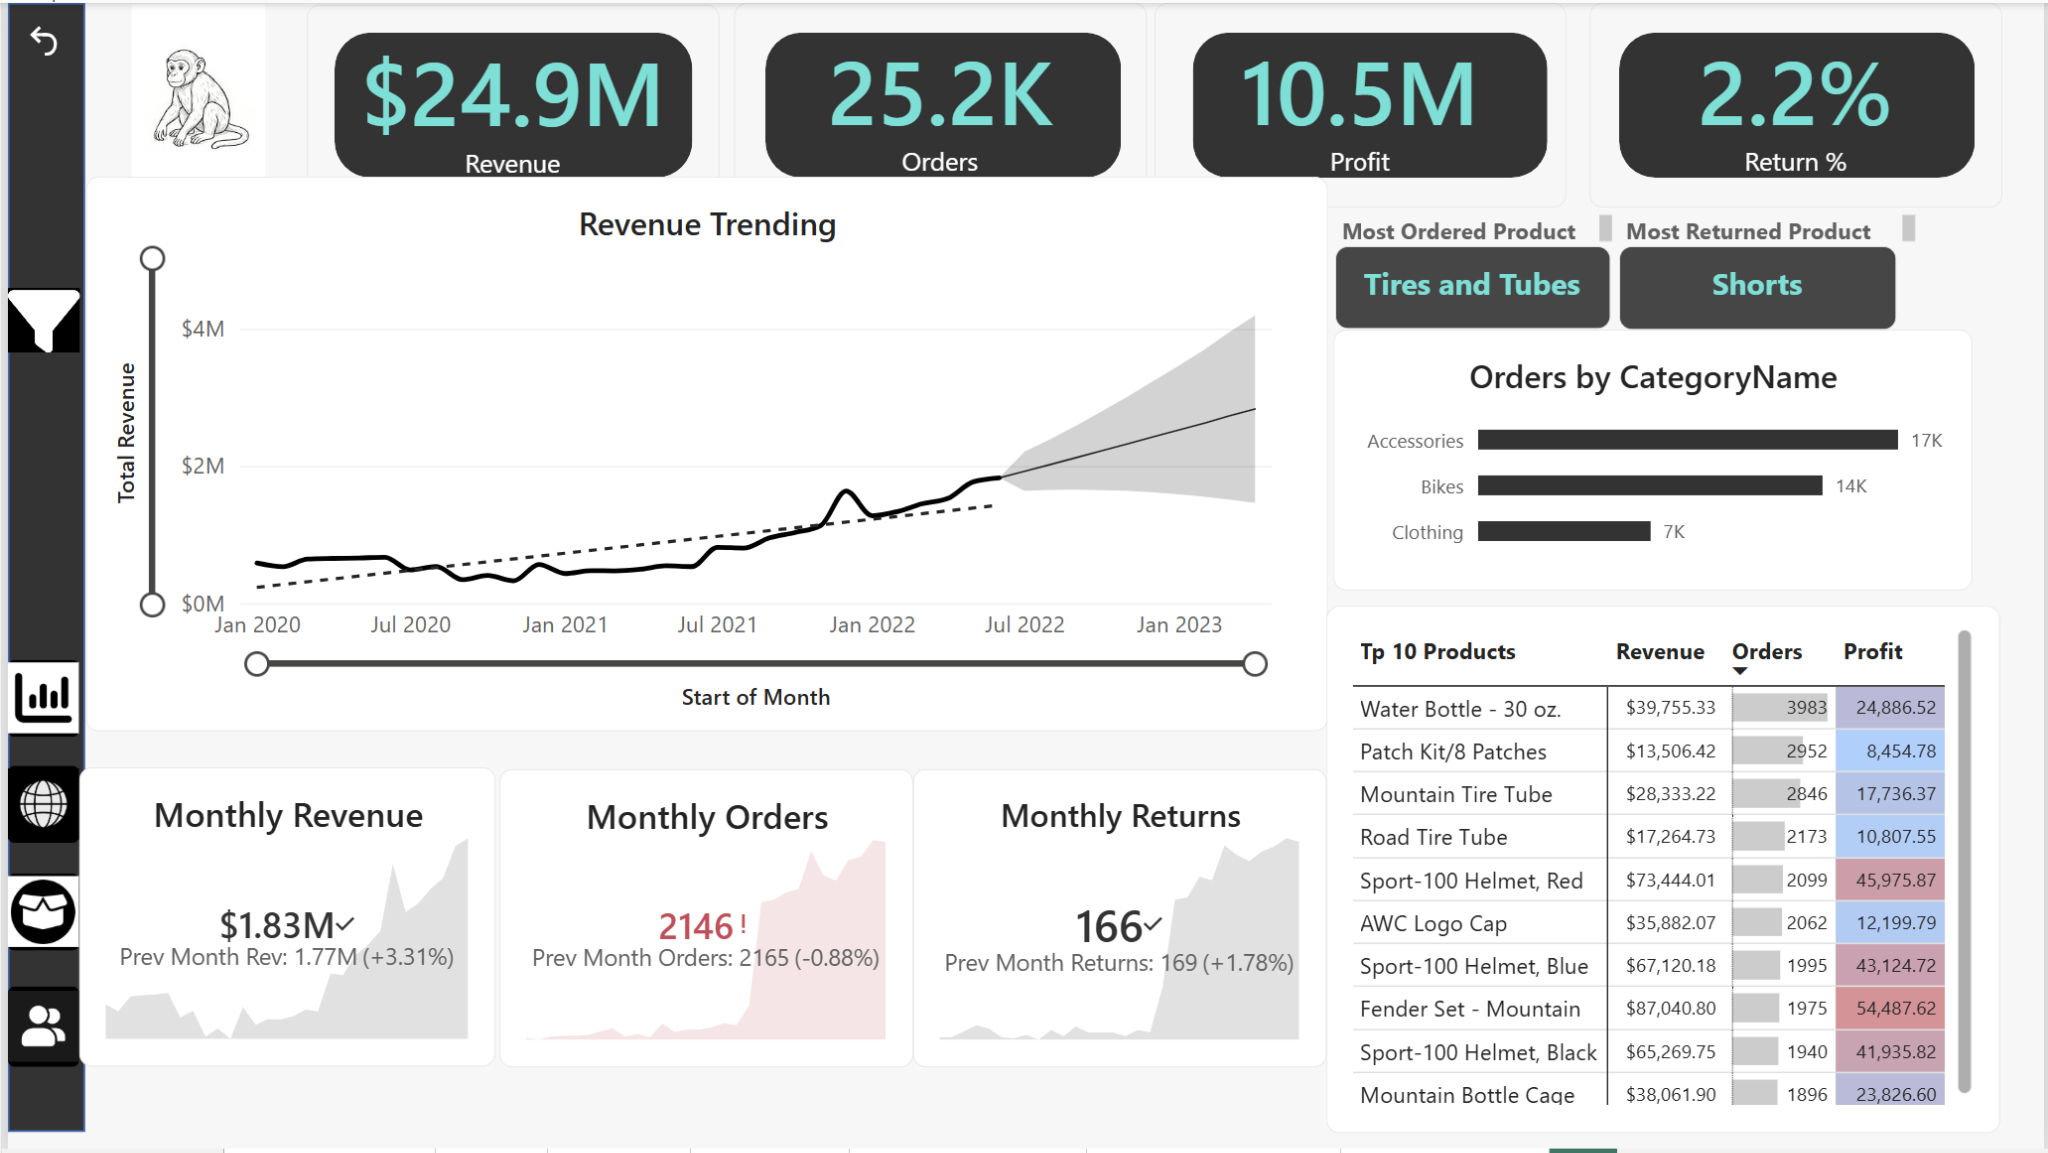

What the dashboard file says about the page in this screenshot:
{"tool":"powerbi","page":{"name":"Executive Dash","canvas":[1280,720],"ordinal":0},"visuals":[{"type":"image","title":"Logo","box":[46.2,1.2,147.5,118.8],"z":0},{"type":"card","fields":{"Values":["Table Measure.Total Revenue"]},"box":[187.5,1.4,259.7,128.4],"z":0,"group":"g4"},{"type":"group","id":"g1","title":"KPI Cards","box":[205.1,18.6,1032,91.3],"z":0,"group":"g5"},{"type":"shape","box":[205.1,18.6,225,91.2],"z":0,"group":"g1"},{"type":"group","id":"g2","title":"Group 3","box":[834.2,133.3,364.8,72.4],"z":0,"group":"g7"},{"type":"group","id":"g3","title":"Group 4","box":[834.2,133.3,364.8,72.4],"z":0,"group":"g2"},{"type":"textbox","box":[838.1,133.3,170.1,20.3],"z":0,"group":"g6"},{"type":"card","fields":{"Values":["Min(Product Subcategories Lookup.SubcategoryName)"]},"box":[834.2,152.5,173.9,52.2],"z":0,"group":"g3"},{"type":"actionButton","box":[0,412.8,44.7,48.6],"z":0,"group":"g8"},{"type":"shape","title":"Left Nav Bar","box":[0,0,48.4,709.6],"z":1000},{"type":"group","id":"g4","title":"KPI Values","box":[187.5,0,1066.8,129.9],"z":1000,"group":"g5"},{"type":"card","fields":{"Values":["Table Measure.Return Rate"]},"box":[994.7,0,259.7,128.4],"z":1000,"group":"g4"},{"type":"shape","box":[475.4,18.6,223.7,91.3],"z":1000,"group":"g1"},{"type":"textbox","box":[1017.4,133.3,181.6,20.3],"z":1000,"group":"g6"},{"type":"card","fields":{"Values":["Min(Product Subcategories Lookup.SubcategoryName)"]},"box":[1013.6,153.3,174.4,52.4],"z":1000,"group":"g3"},{"type":"actionButton","box":[0,479.5,44.7,48.6],"z":1000,"group":"g8"},{"type":"group","id":"g5","title":"KPIs","box":[100,0,1154.3,400],"z":2000},{"type":"card","fields":{"Values":["Table Measure.Total Orders"]},"box":[456.6,0,259.7,128.4],"z":2000,"group":"g4"},{"type":"shape","box":[744.4,18.6,223.7,91.3],"z":2000,"group":"g1"},{"type":"textbox","box":[100,100,300,300],"z":2000,"group":"g5"},{"type":"group","id":"g6","title":"Group 1","box":[838.1,133.3,360.9,20.3],"z":2000,"group":"g3"},{"type":"actionButton","box":[0,547.5,44.7,48.6],"z":2000,"group":"g8"},{"type":"card","fields":{"Values":["Table Measure.Total Profit"]},"box":[720.9,0,259.7,128.4],"z":3000,"group":"g4"},{"type":"shape","box":[1013.4,18.6,223.7,91.3],"z":3000,"group":"g1"},{"type":"lineChart","title":"Revenue Trending","fields":{"Category":["Calendar Lookup.Start of Month"],"Y":["Table Measure.Total Revenue"]},"box":[48.7,108.9,780.4,348.6],"z":3000},{"type":"kpi","title":"Monthly Revenue","fields":{"Goal":["Table Measure.Previous Month Revenue"],"Indicator":["Table Measure.Total Revenue"],"TrendLine":["Calendar Lookup.Start of Month"]},"box":[45.1,480.8,261.8,188.1],"z":4000},{"type":"kpi","title":"Monthly Orders","fields":{"Goal":["Table Measure.Previou Month orders"],"Indicator":["Table Measure.Total Orders"],"TrendLine":["Calendar Lookup.Start of Month"]},"box":[308.8,481.2,260,187.5],"z":5000},{"type":"kpi","title":"Monthly Returns","fields":{"Goal":["Table Measure.Previous Month Returns"],"Indicator":["Table Measure.Total Returns"],"TrendLine":["Calendar Lookup.Start of Month"]},"box":[568.8,481.2,260,187.5],"z":6000},{"type":"barChart","title":"Orders by CategoryName","fields":{"Category":["Product Categories Lookup.CategoryName"],"Y":["Table Measure.Total Orders"]},"box":[833.8,205,402.5,163.8],"z":7000},{"type":"pivotTable","fields":{"Rows":["Product Lookup.ProductName"],"Values":["Table Measure.Total Revenue","Table Measure.Total Orders","Table Measure.Total Profit"]},"box":[828.8,378.8,423.8,331.2],"z":8000},{"type":"group","id":"g7","title":"Group 2","box":[834.2,133.3,365.2,71.8],"z":9000},{"type":"actionButton","box":[0,0,44.7,47.7],"z":10000},{"type":"actionButton","box":[0,618.5,44.7,50.7],"z":11000},{"type":"group","id":"g8","title":"Custom navigation","box":[0,412.8,44.7,183.3],"z":12000},{"type":"actionButton","box":[0,179.3,45.1,40.7],"z":13000}]}

Visuals, with their boxes on the page's 1280x720 design canvas (x1, y1, x2, y2). These are canvas units, not pixel positions in the 2048x1153 screenshot, which may show the page scaled, cropped or inside an application window:
"Logo" image: box(46, 1, 194, 120)
card - Table Measure.Total Revenue: box(188, 1, 447, 130)
"KPI Cards" group: box(205, 19, 1237, 110)
shape: box(205, 19, 430, 110)
"Group 3" group: box(834, 133, 1199, 206)
"Group 4" group: box(834, 133, 1199, 206)
textbox: box(838, 133, 1008, 154)
card - Min(Product Subcategories Lookup.SubcategoryName): box(834, 152, 1008, 205)
actionButton: box(0, 413, 45, 461)
"Left Nav Bar" shape: box(0, 0, 48, 710)
"KPI Values" group: box(188, 0, 1254, 130)
card - Table Measure.Return Rate: box(995, 0, 1254, 128)
shape: box(475, 19, 699, 110)
textbox: box(1017, 133, 1199, 154)
card - Min(Product Subcategories Lookup.SubcategoryName): box(1014, 153, 1188, 206)
actionButton: box(0, 480, 45, 528)
"KPIs" group: box(100, 0, 1254, 400)
card - Table Measure.Total Orders: box(457, 0, 716, 128)
shape: box(744, 19, 968, 110)
textbox: box(100, 100, 400, 400)
"Group 1" group: box(838, 133, 1199, 154)
actionButton: box(0, 548, 45, 596)
card - Table Measure.Total Profit: box(721, 0, 981, 128)
shape: box(1013, 19, 1237, 110)
"Revenue Trending" lineChart: box(49, 109, 829, 458)
"Monthly Revenue" kpi: box(45, 481, 307, 669)
"Monthly Orders" kpi: box(309, 481, 569, 669)
"Monthly Returns" kpi: box(569, 481, 829, 669)
"Orders by CategoryName" barChart: box(834, 205, 1236, 369)
pivotTable - Product Lookup.ProductName x Table Measure.Total Revenue: box(829, 379, 1253, 710)
"Group 2" group: box(834, 133, 1199, 205)
actionButton: box(0, 0, 45, 48)
actionButton: box(0, 618, 45, 669)
"Custom navigation" group: box(0, 413, 45, 596)
actionButton: box(0, 179, 45, 220)
